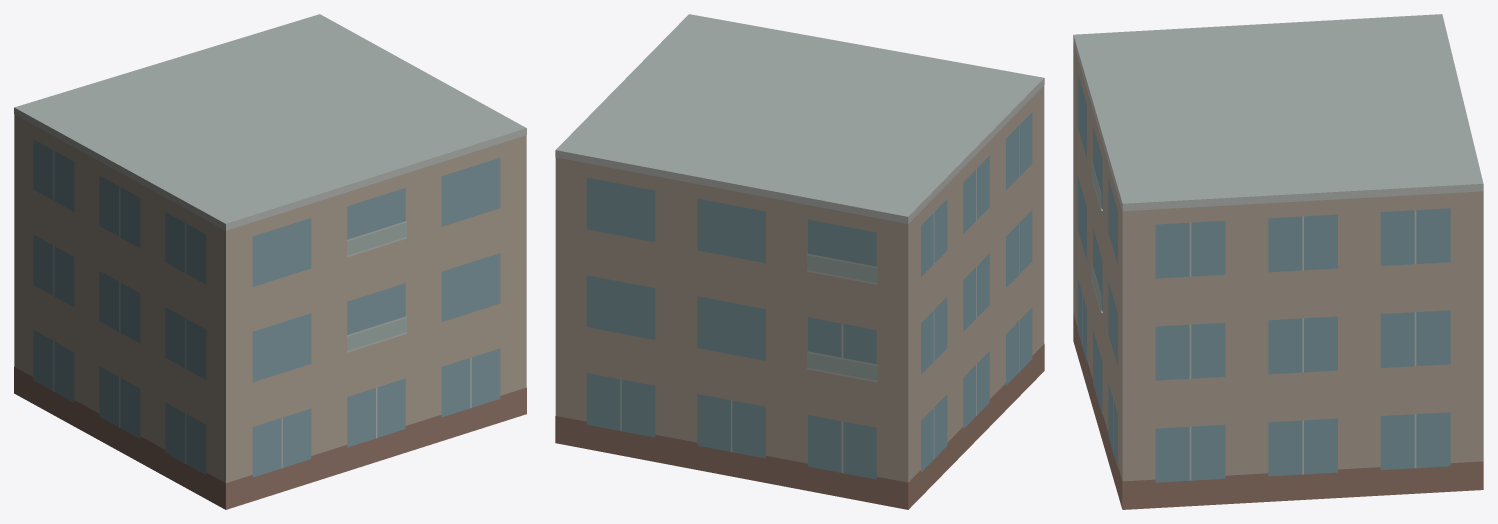
Rendered from survey-upis-32861258.glb.
The picture shows the model from 3 angles, left to right: view 1: azimuth 30°, elevation 25°; view 2: azimuth 150°, elevation 25°; view 3: azimuth 270°, elevation 25°; orthographic projection. The views are drawn at different scales.
Parts seen in each view (by area): view 1: survey-upis-32861258.tmp; view 2: survey-upis-32861258.tmp; view 3: survey-upis-32861258.tmp.
Part boxes in pixels (x1,y1,x2,y2): survey-upis-32861258.tmp: (14, 14, 526, 509); survey-upis-32861258.tmp: (555, 14, 1044, 509); survey-upis-32861258.tmp: (1073, 14, 1483, 509).
Bounding box in the file's own units: 13.31 × 10 × 12.16.
